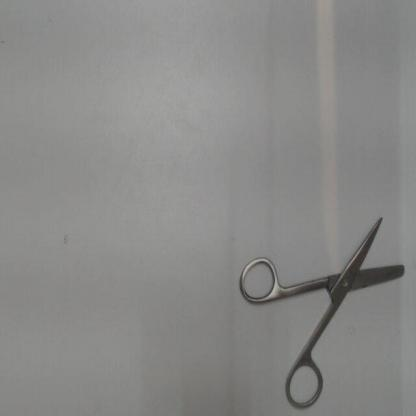Dressing Scissors: (235, 209, 412, 413)
